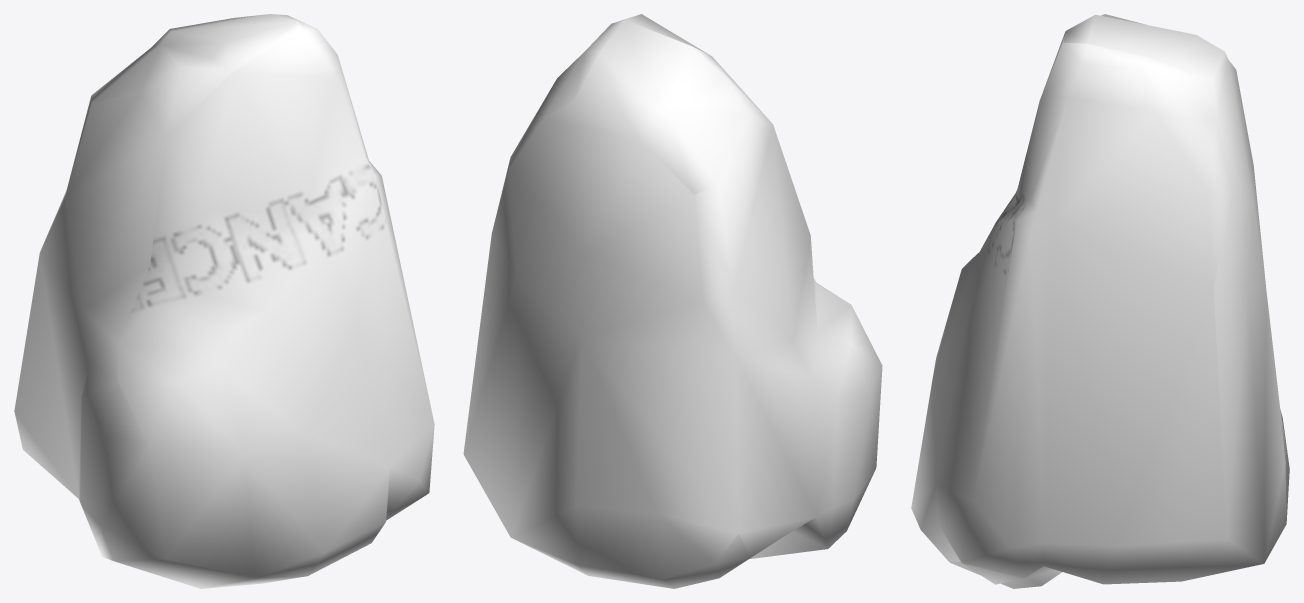
File: mei_crystal.obj
3 renders of one model, left to right at view 1: azimuth 30°, elevation 25°; view 2: azimuth 150°, elevation 25°; view 3: azimuth 270°, elevation 25°, orthographic. The views are drawn at different scales.
Parts seen in each view (by area): view 1: submesh; view 2: submesh; view 3: submesh.
Boxes of the visible parts, box(x1,y1,x2,y2) form: submesh: box(14, 14, 434, 588); submesh: box(463, 14, 882, 588); submesh: box(911, 14, 1289, 588).
Size of the model in its own units: 1.71 by 2.69 by 1.63.
